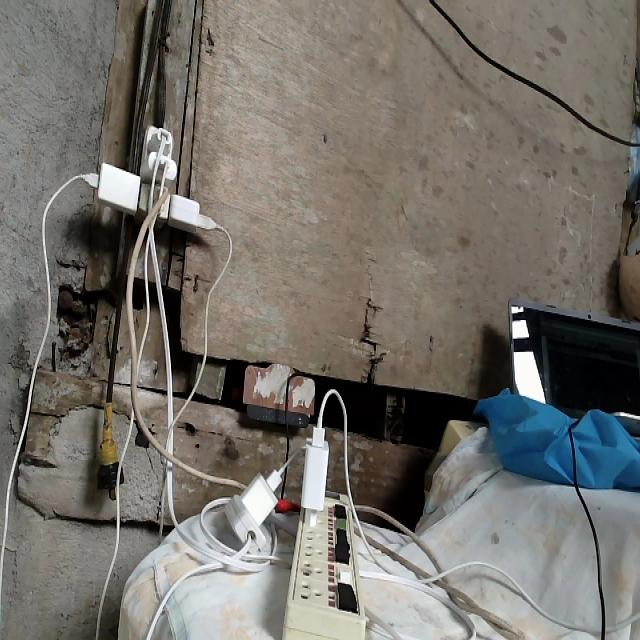-: (84, 124, 218, 235)
